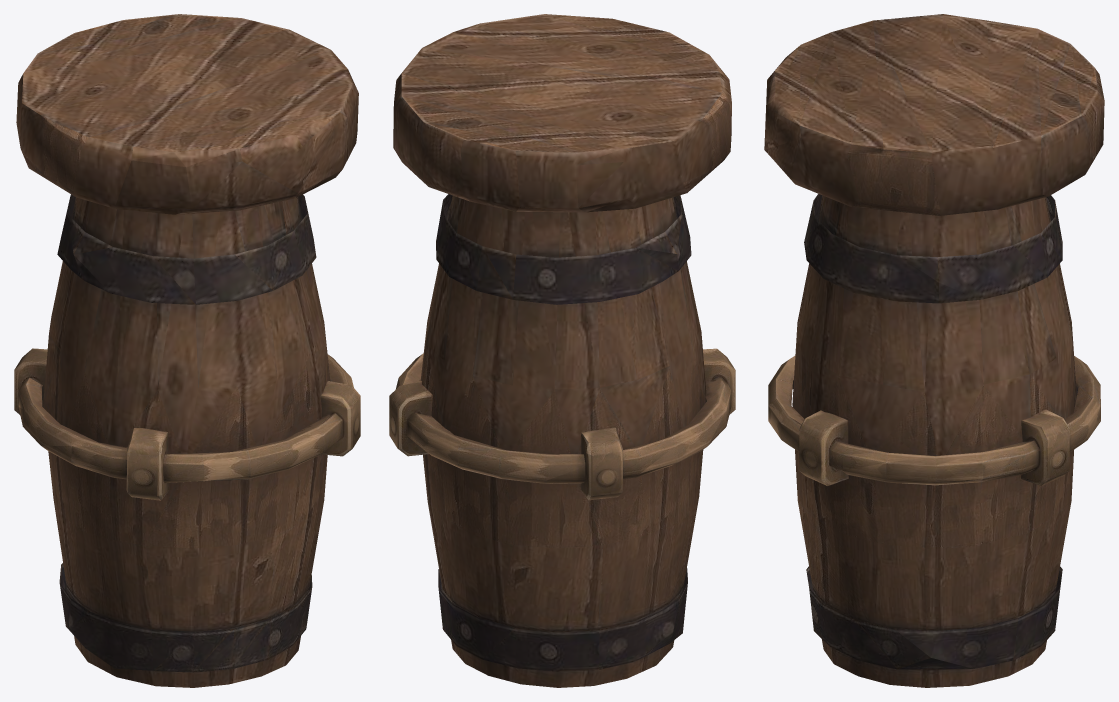
File: bar-stool.glb
The picture shows the model from 3 angles, left to right: view 1: azimuth 30°, elevation 25°; view 2: azimuth 150°, elevation 25°; view 3: azimuth 270°, elevation 25°; orthographic projection.
Visible parts, largest first — view 1: GLTF; view 2: GLTF; view 3: GLTF.
Boxes of the visible parts, bbox=[...] form: GLTF: bbox=[14, 14, 360, 687]; GLTF: bbox=[389, 14, 735, 687]; GLTF: bbox=[764, 14, 1104, 687].
Size of the model in its own units: 0.4033 by 0.7299 by 0.4041.
Materials: 1 (1 with a texture image).
